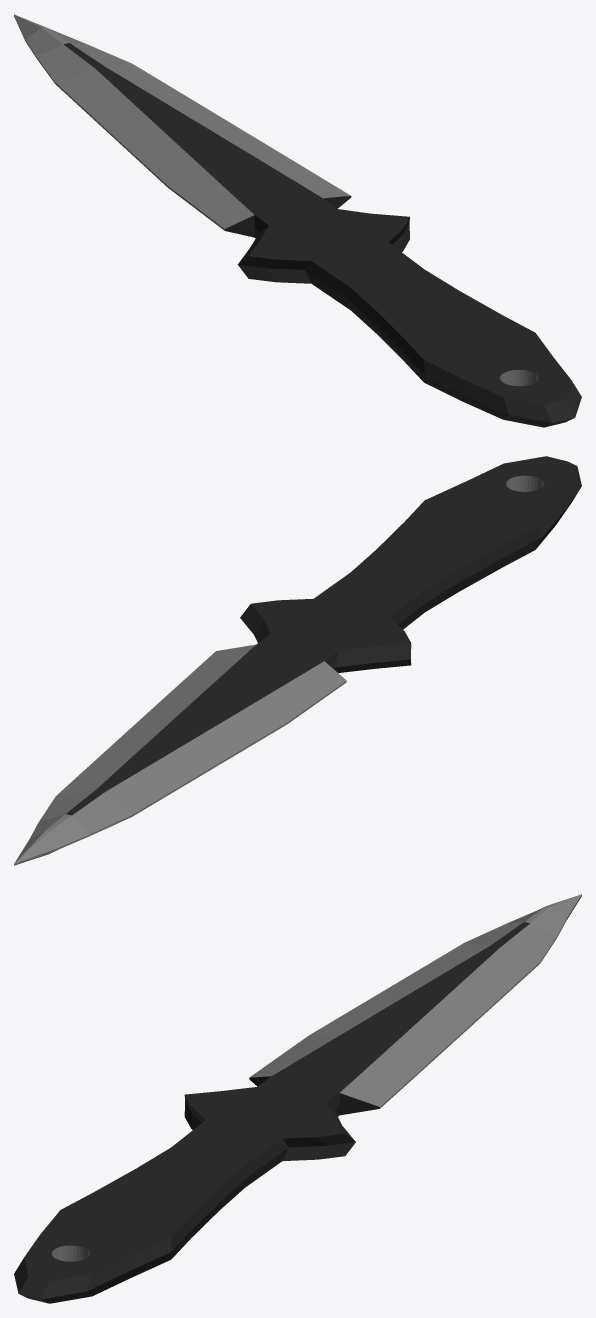
Rendered from ThrowingKnife_01.fbx.
3 renders of one model, top to bottom at view 1: azimuth 30°, elevation 25°; view 2: azimuth 150°, elevation 25°; view 3: azimuth 330°, elevation 25°, orthographic.
Parts seen in each view (by area): view 1: ThrowingKnife_01; view 2: ThrowingKnife_01; view 3: ThrowingKnife_01.
Boxes of the visible parts, left/top/right/bottom form: ThrowingKnife_01: left=14, top=14, right=581, bottom=427; ThrowingKnife_01: left=14, top=456, right=581, bottom=865; ThrowingKnife_01: left=14, top=894, right=581, bottom=1303.
Bounding box in the file's own units: 14.28 × 1.8 × 79.44.
